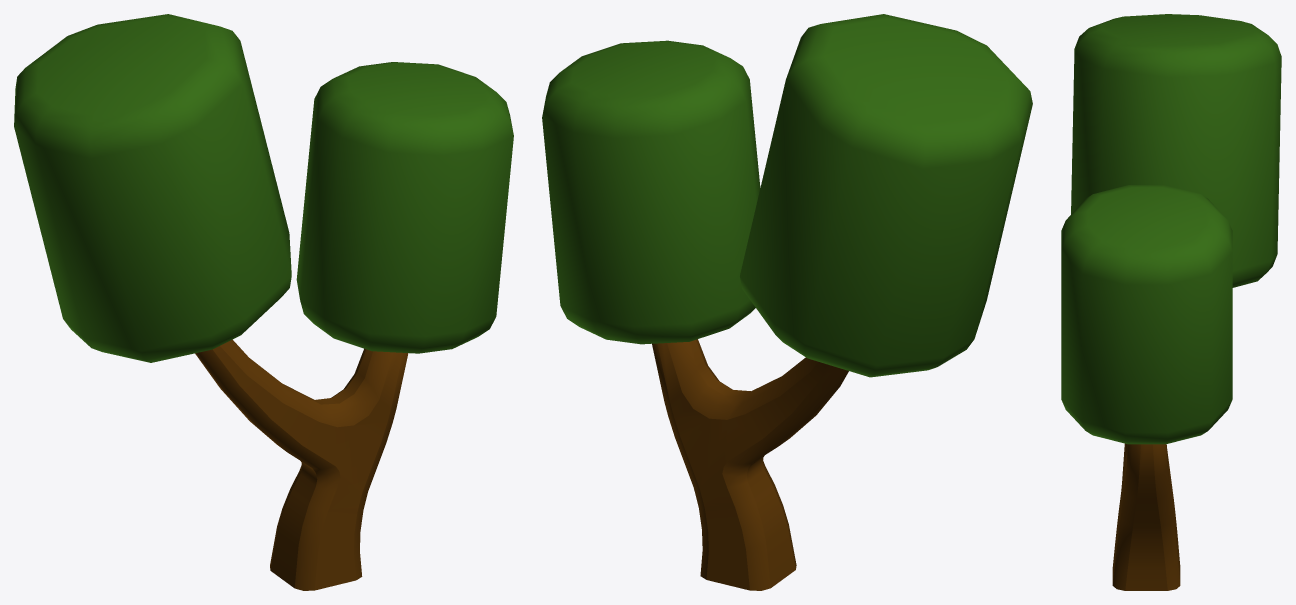
The model's file is Tree_1_2.glb.
The picture shows the model from 3 angles, left to right: view 1: azimuth 30°, elevation 25°; view 2: azimuth 150°, elevation 25°; view 3: azimuth 270°, elevation 25°; orthographic projection. The views are drawn at different scales.
Parts seen in each view (by area): view 1: Tree_1_2; view 2: Tree_1_2; view 3: Tree_1_2.
Boxes of the visible parts, box(x1,y1,x2,y2) form: Tree_1_2: box(14, 14, 513, 590); Tree_1_2: box(542, 14, 1032, 590); Tree_1_2: box(1061, 14, 1281, 590).
Size of the model in its own units: 2.97 by 3.49 by 1.43.
2 materials, 2 textured.
